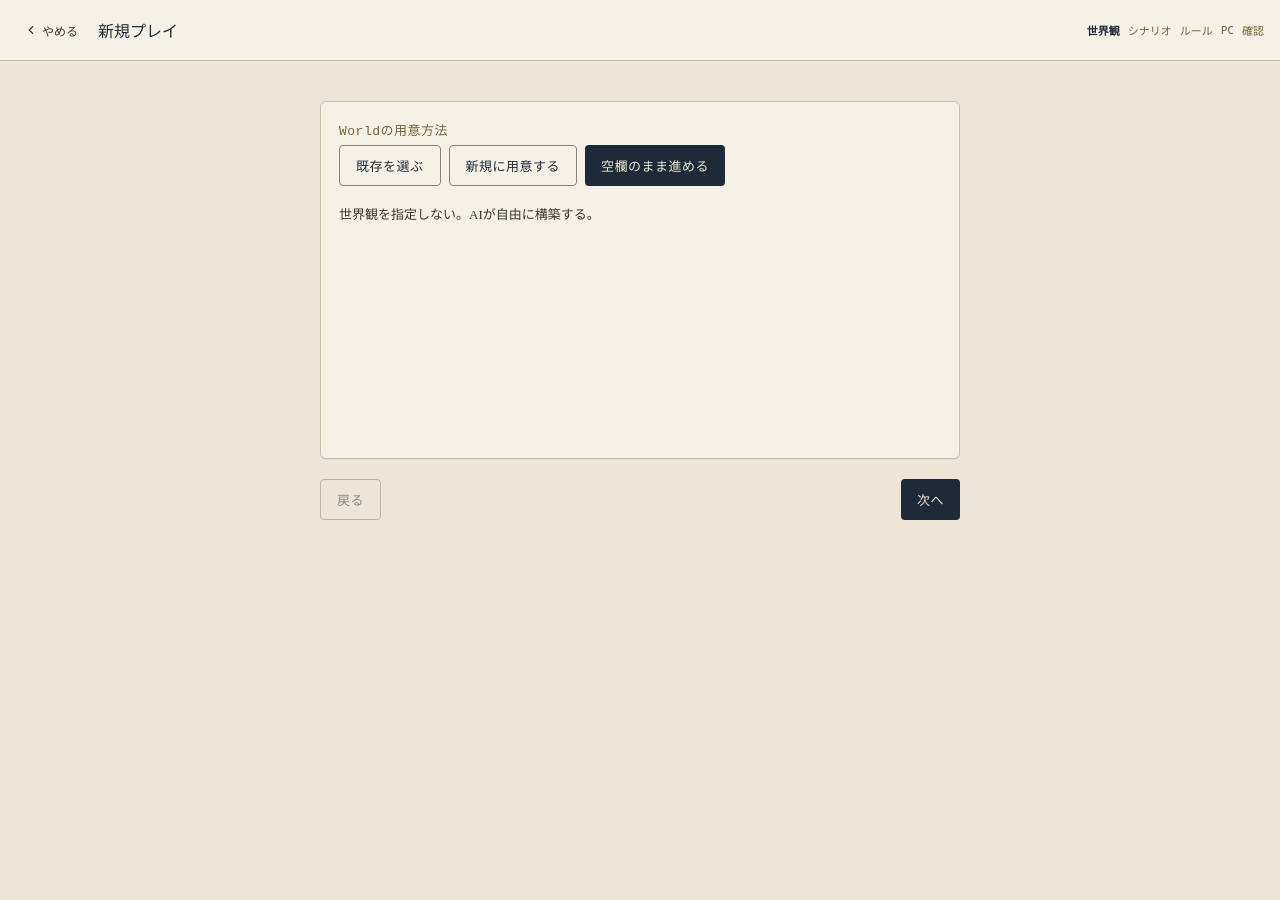
Test: Setup › keeps the wizard and its input intact when the exit is cancelled from the modal
Click the button "新規に用意する" at (513, 166), box 448,145 -> 577,186
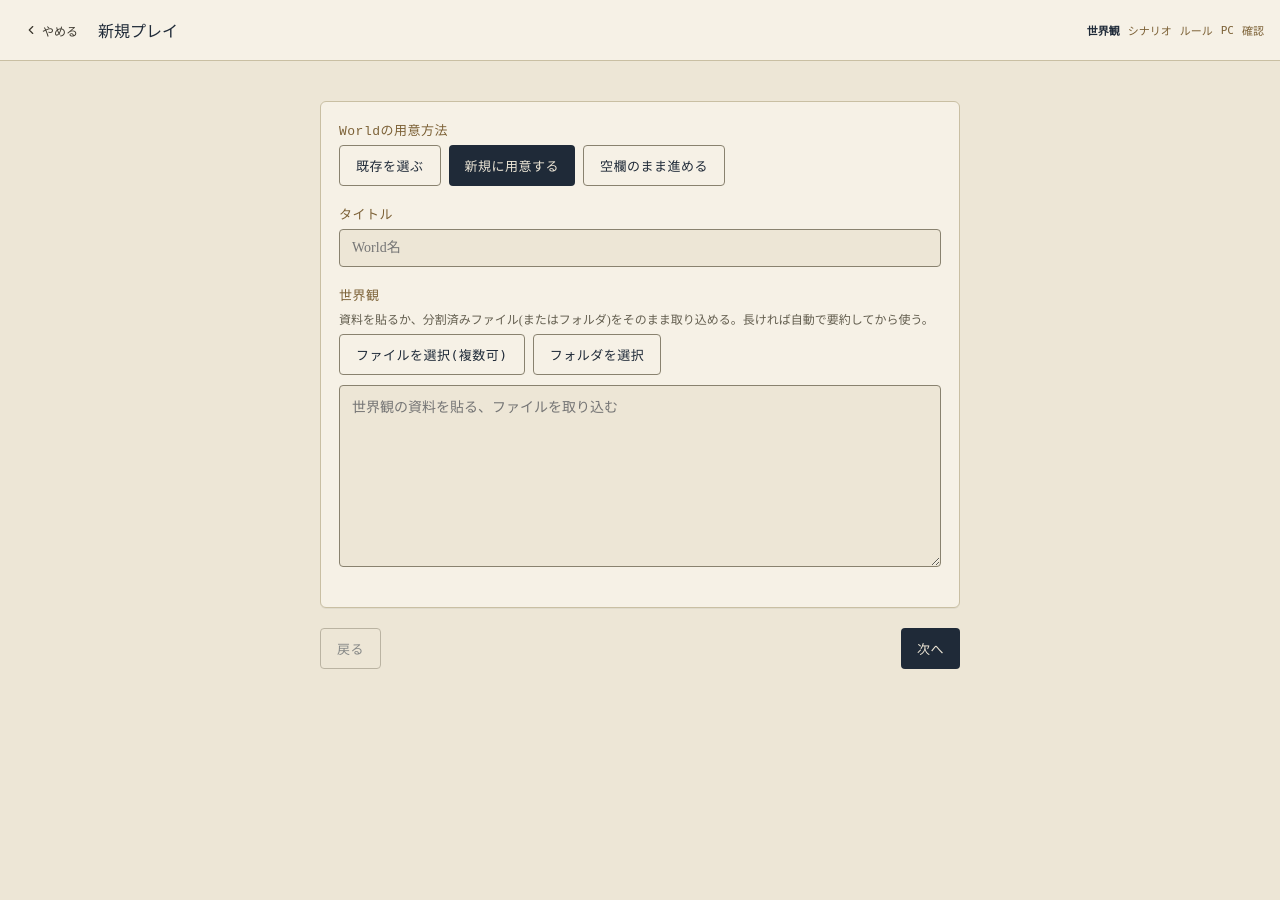
Type "中世風の島国" into the text box with placeholder "世界観の資料を貼る、ファイルを取り込む" at (640, 476), box 339,385 -> 941,567
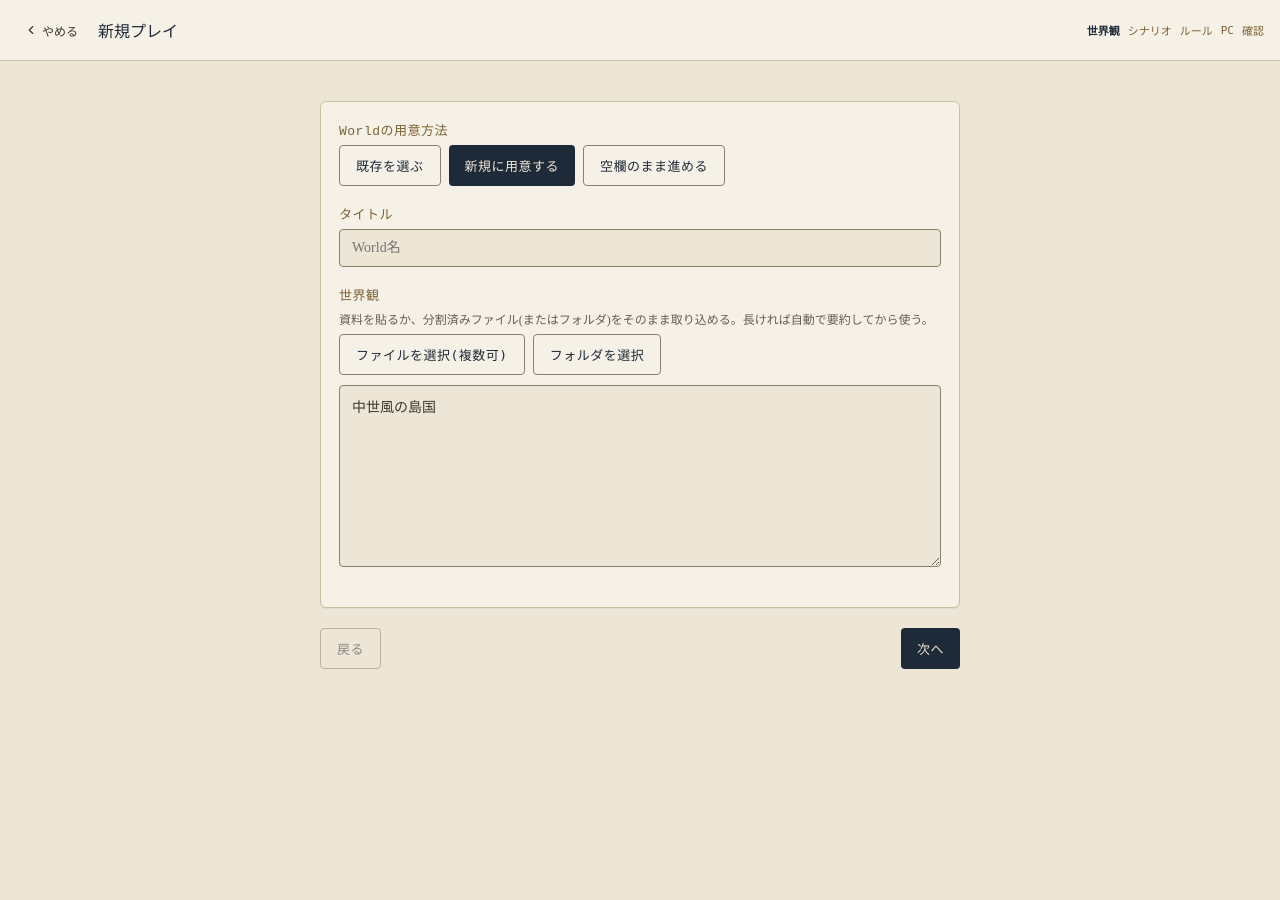
Click the button "やめる" at (51, 30), box 16,8 -> 86,52
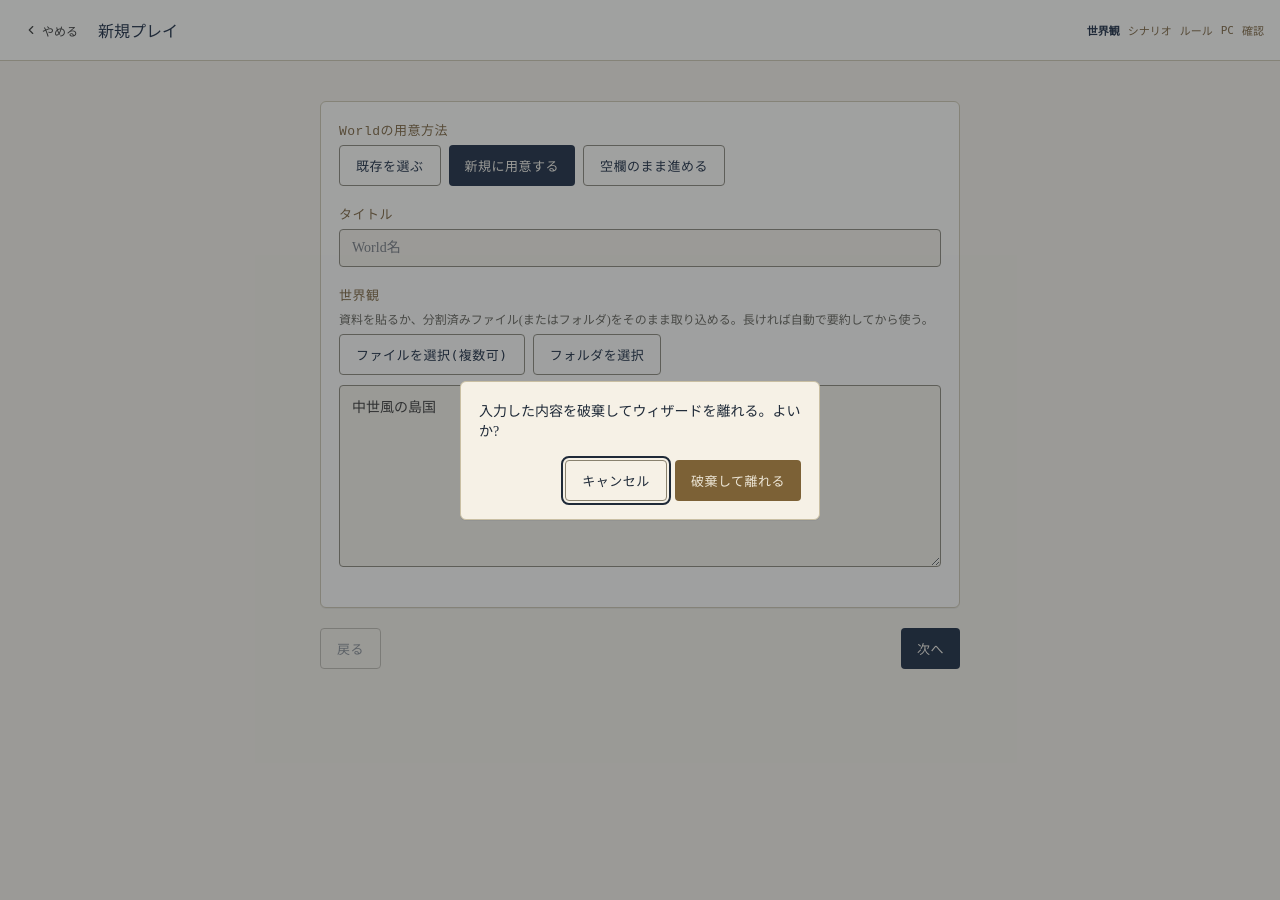
Click the button "キャンセル" at (616, 480), box 565,460 -> 667,500
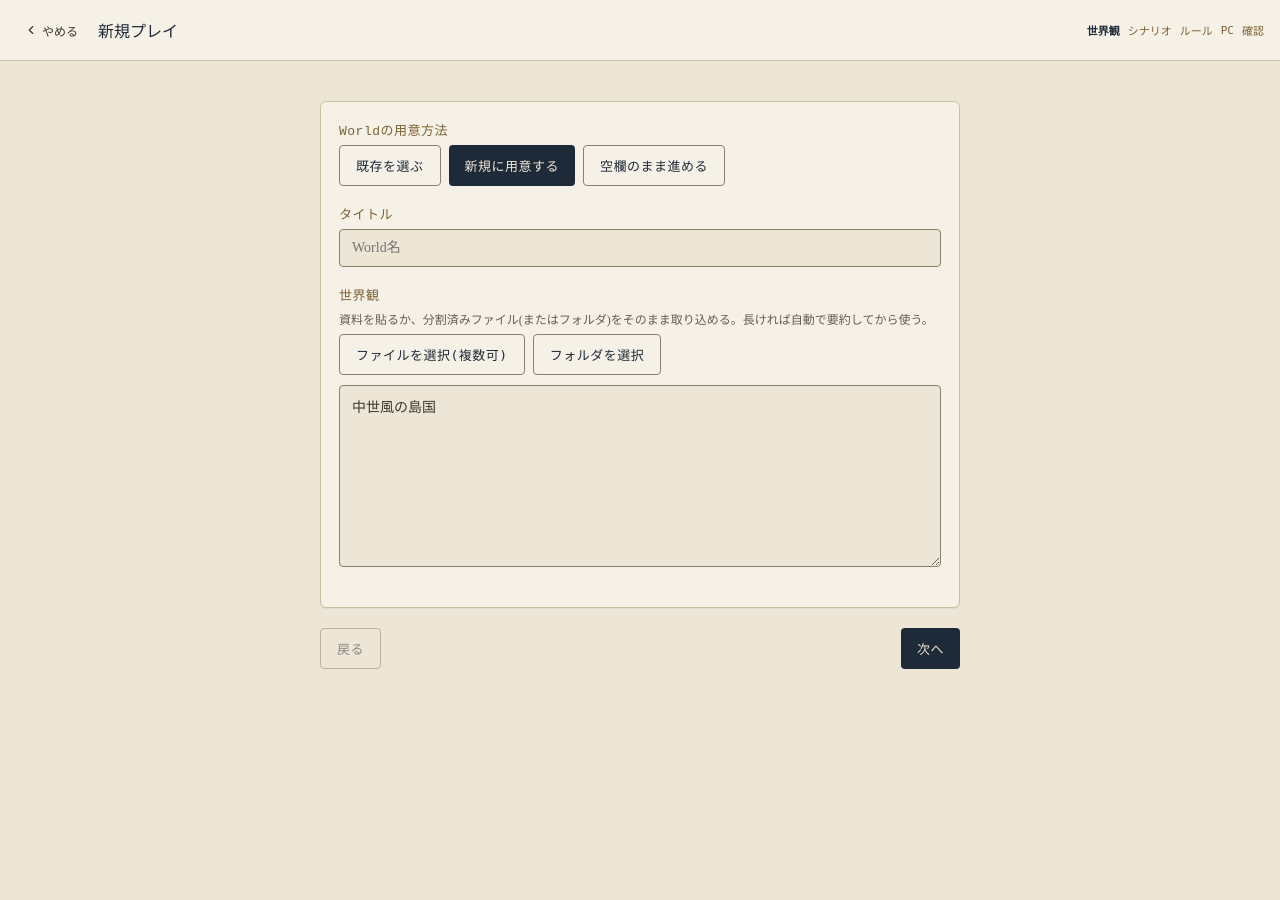
Result: the text "入力した内容を破棄してウィザードを離れる。よいか?" is gone
